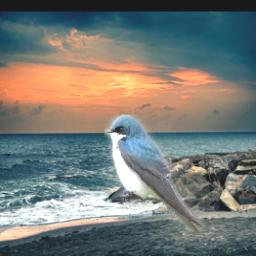Swallow: (104, 115, 205, 233)
